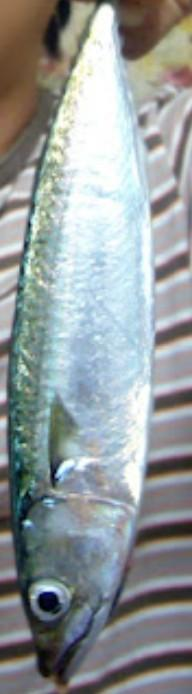fish: (9, 0, 154, 685)
